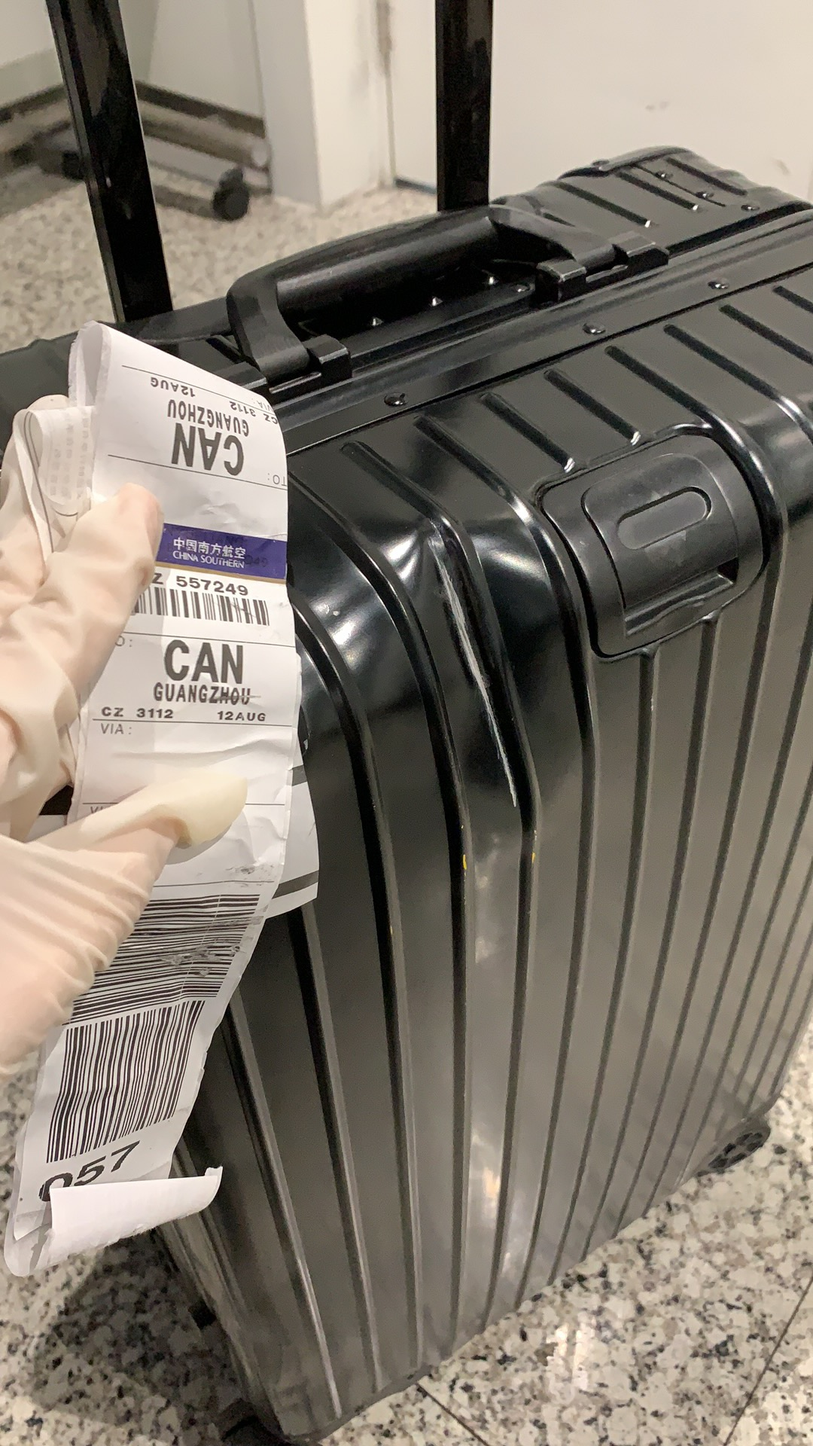hollow: (404, 514, 591, 857)
